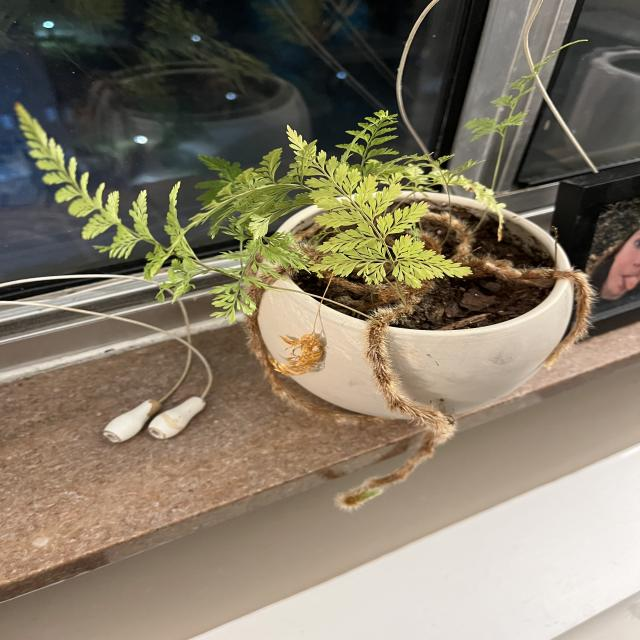Fern1: (0, 19, 640, 513)
